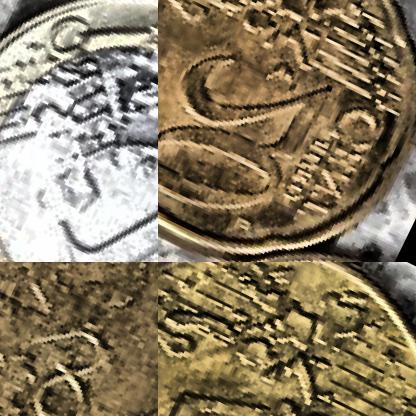coin: (158, 0, 415, 261), (0, 0, 157, 261), (158, 262, 415, 415), (0, 262, 157, 415)
